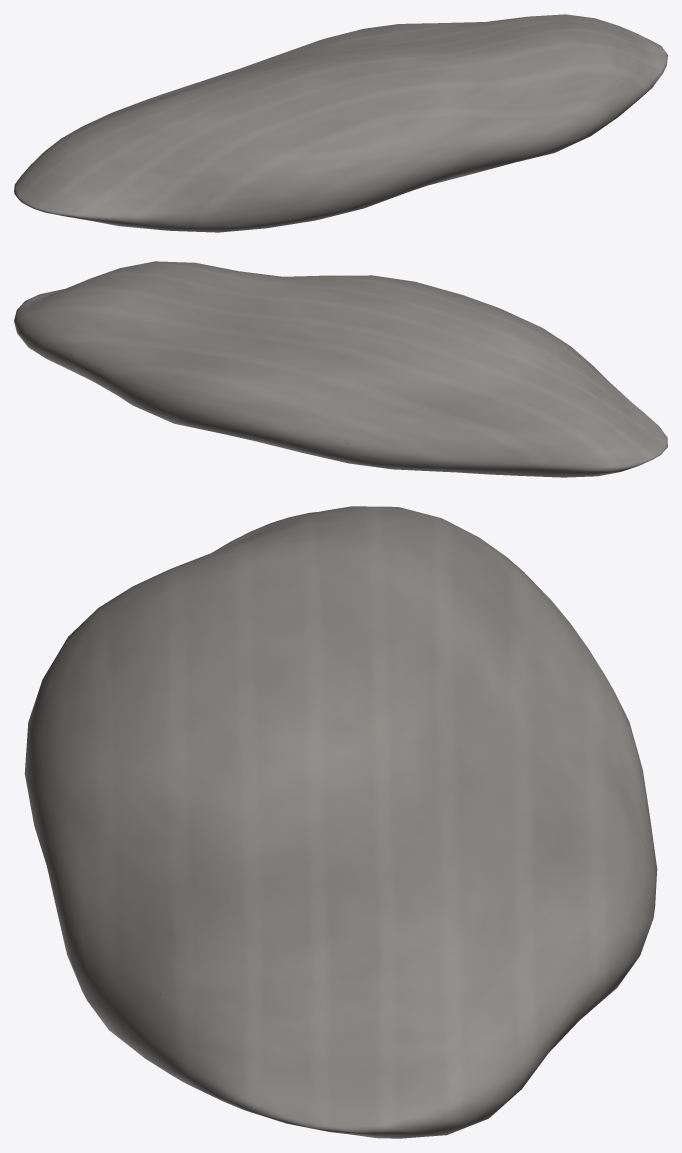
The model's file is cairn_offering_slab.glb.
3 views of the same model, one above another, from view 1: azimuth 30°, elevation 25°; view 2: azimuth 150°, elevation 25°; view 3: azimuth 270°, elevation 25° (orthographic). The views are drawn at different scales.
Parts seen in each view (by area): view 1: cairn_offering_slab; view 2: cairn_offering_slab; view 3: cairn_offering_slab.
Boxes of the visible parts, x1,y1,x2,y2 form: cairn_offering_slab: (14,14,667,232); cairn_offering_slab: (14,261,667,477); cairn_offering_slab: (24,506,657,1138).
Bounding box in the file's own units: 1.83 × 0.2251 × 0.7896.
1 material, 1 textured.
